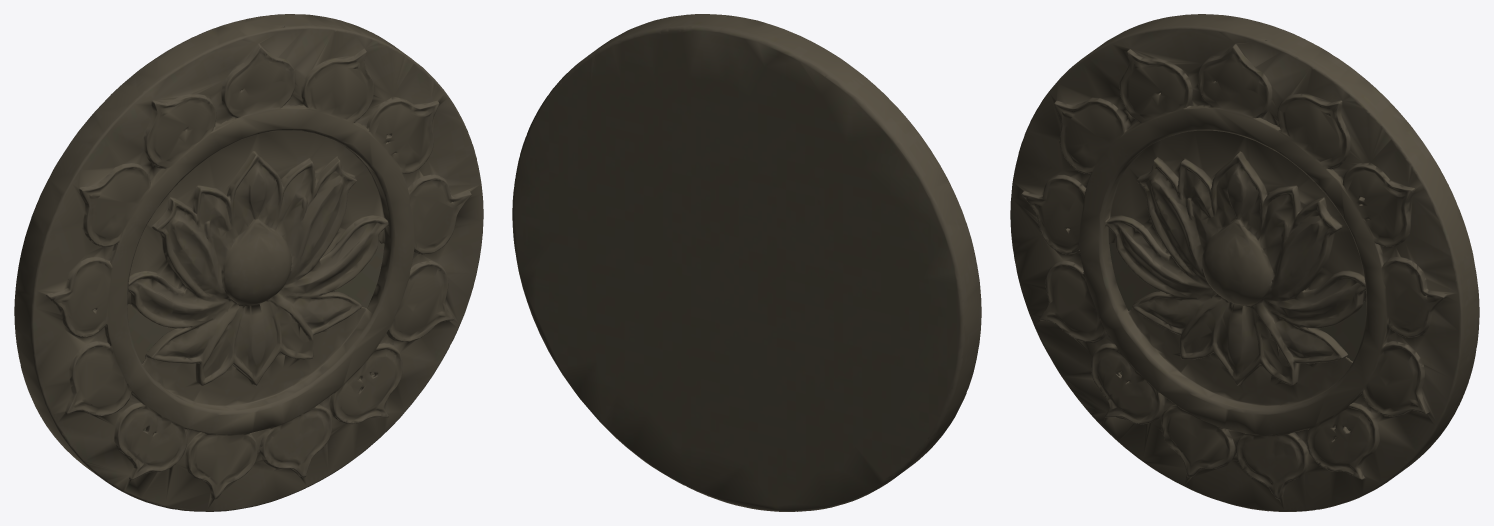
File: lotus-relief.glb
3 renders of one model, left to right at view 1: azimuth 30°, elevation 25°; view 2: azimuth 150°, elevation 25°; view 3: azimuth 330°, elevation 25°, orthographic.
Visible parts, largest first — view 1: world; view 2: world; view 3: world.
Boxes of the visible parts, bbox=[...] form: world: bbox=[14, 14, 483, 511]; world: bbox=[512, 14, 981, 511]; world: bbox=[1010, 14, 1479, 511].
Bounding box in the file's own units: 1 × 1 × 0.0952.
1 material, 1 textured.
